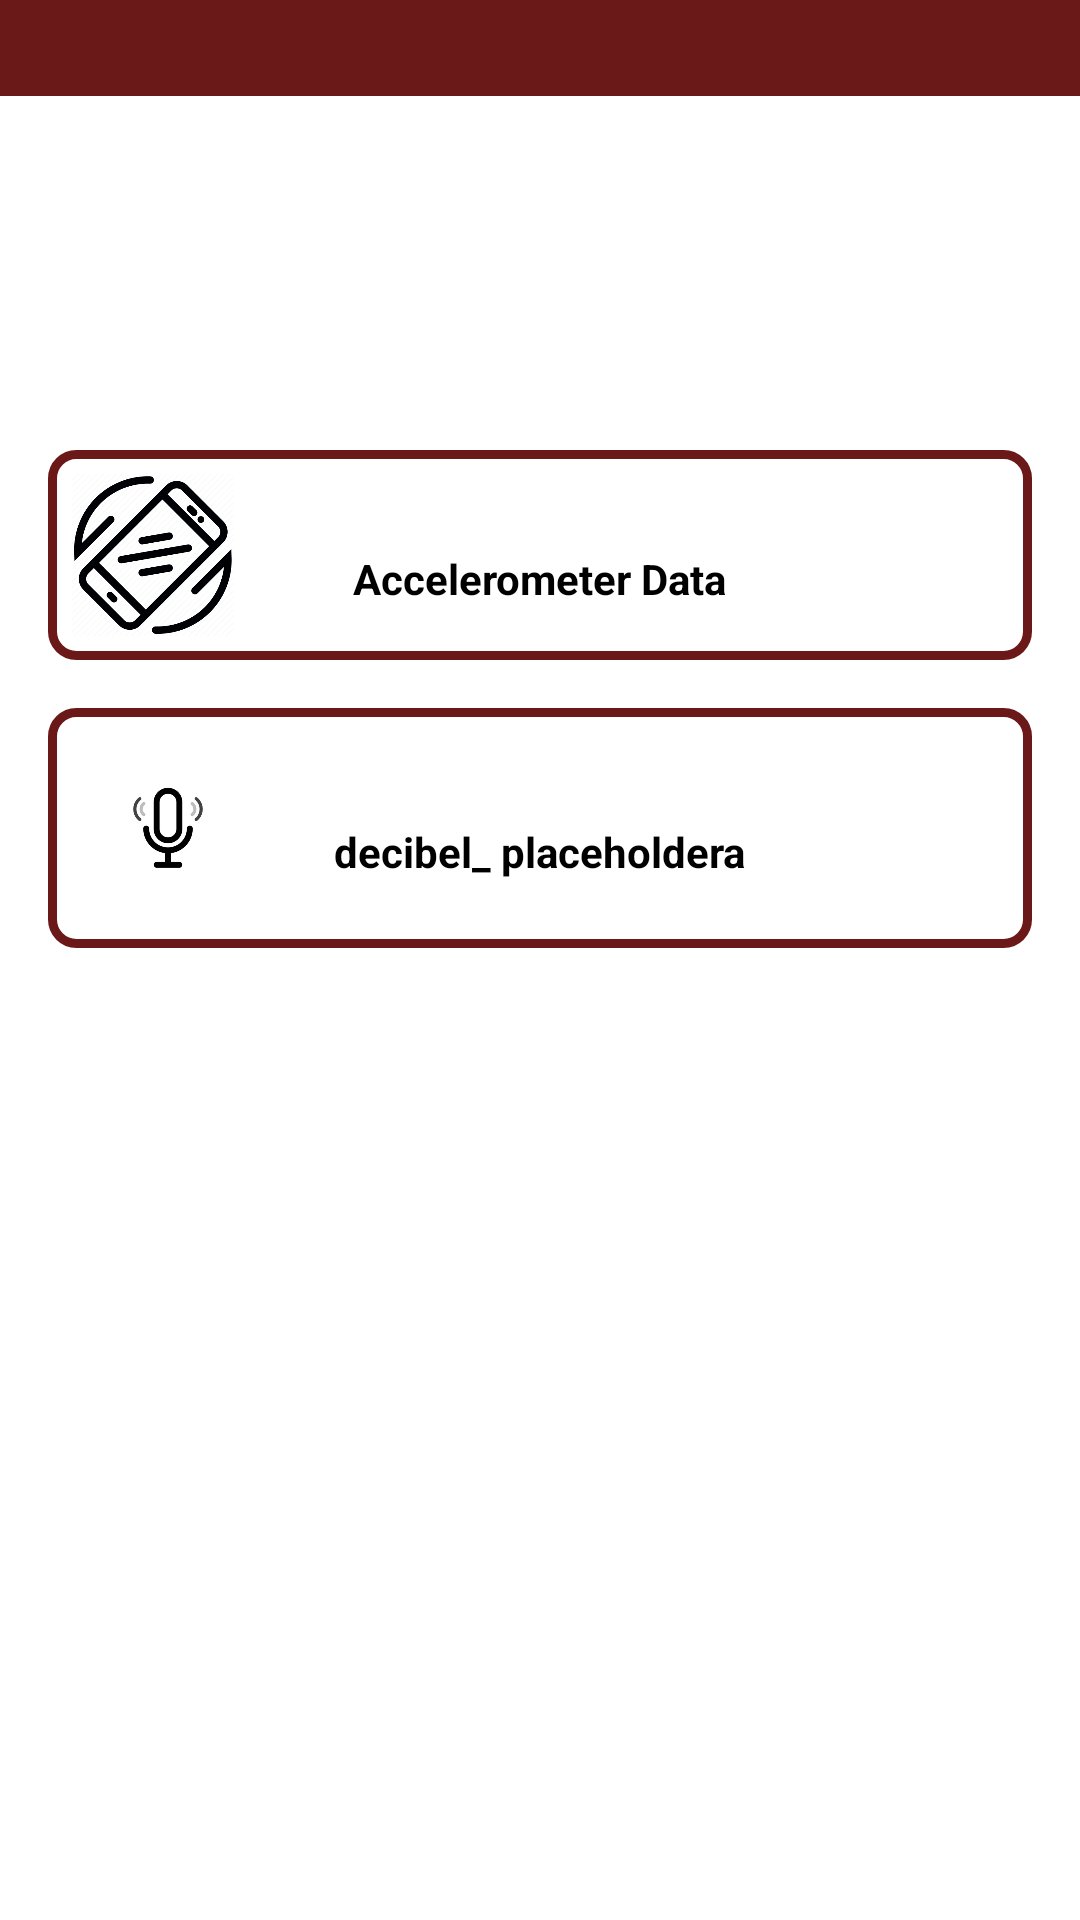

Where icons sit on this 1080w x 1920h app screen, as (x1, y1, x2, y2):
Decibel Meter Image: (133, 788, 203, 868)
